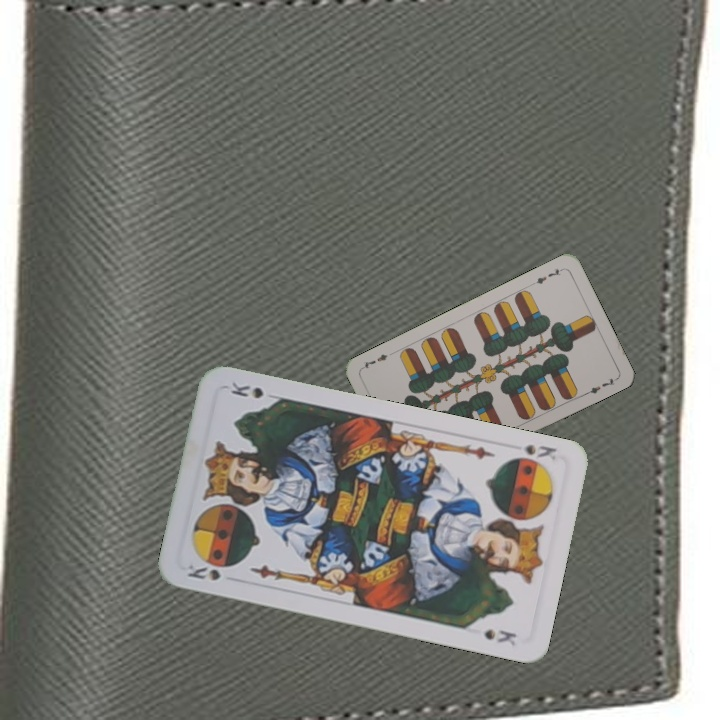E7: (532, 264, 566, 287)
SK: (183, 560, 223, 584), (521, 440, 559, 463)
